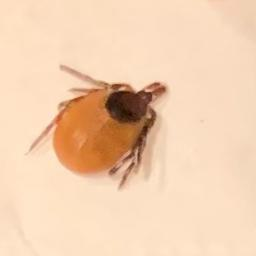Ixodes scapularis: (64, 46, 179, 163)
